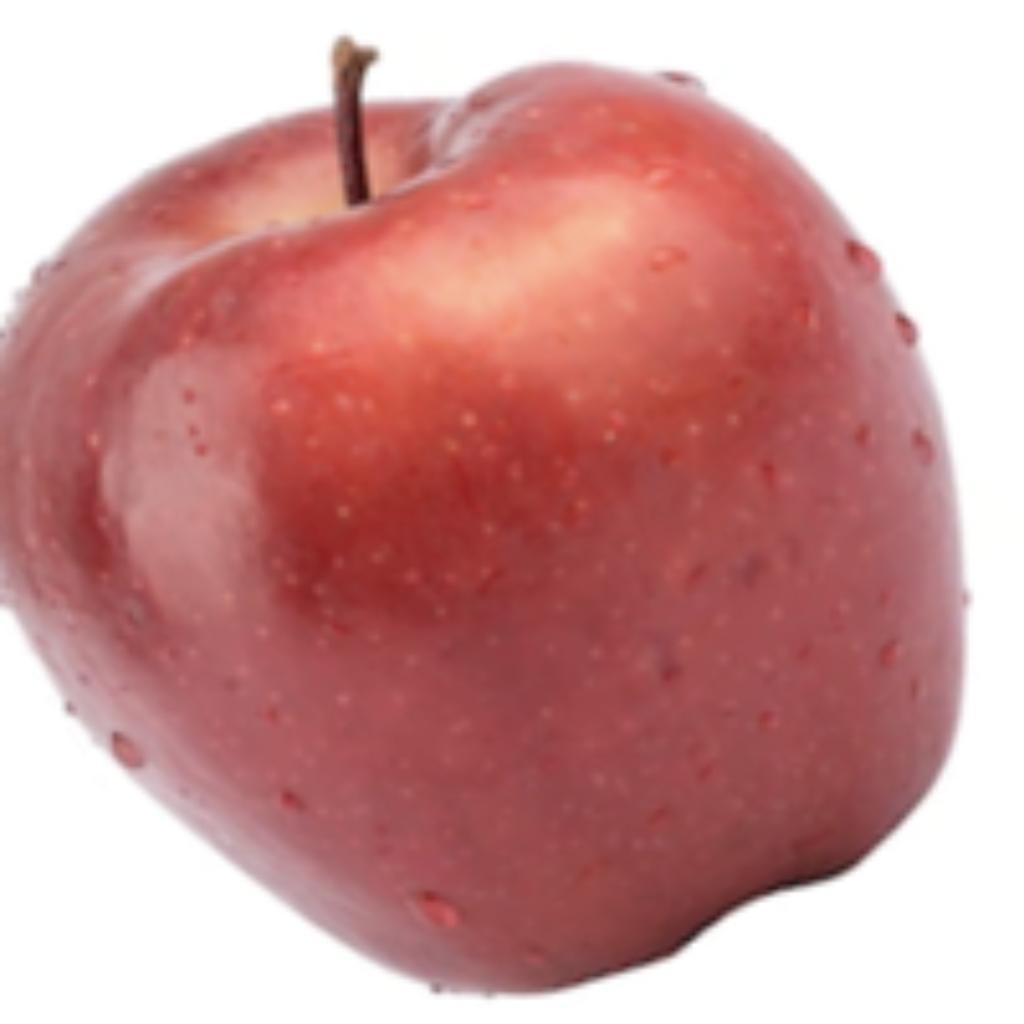apple: (0, 26, 973, 1004)
